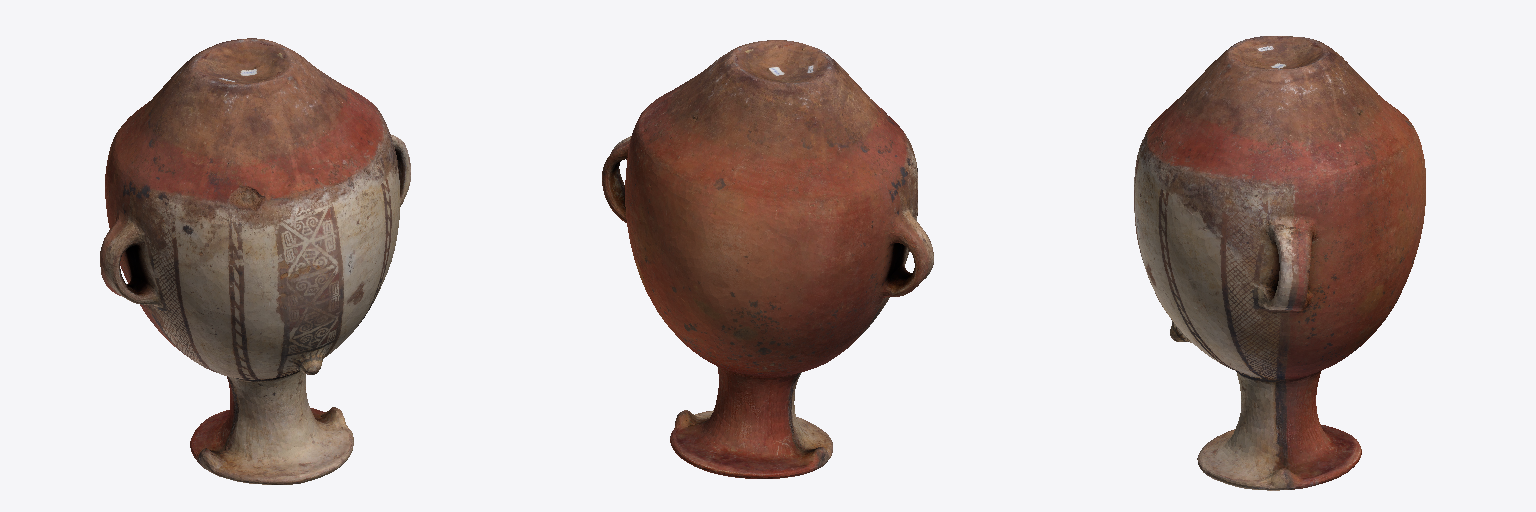
3 views of the same model, side by side, from view 1: azimuth 30°, elevation 25°; view 2: azimuth 150°, elevation 25°; view 3: azimuth 270°, elevation 25° (orthographic).
Parts seen in each view (by area): view 1: mmGroup0; view 2: mmGroup0; view 3: mmGroup0.
Part boxes in pixels (bbox=[...]): mmGroup0: bbox=[100, 38, 410, 484]; mmGroup0: bbox=[602, 40, 933, 478]; mmGroup0: bbox=[1134, 36, 1425, 490].
Bounding box in the file's own units: 267 × 327 × 216.
Materials: 1 (1 with a texture image).